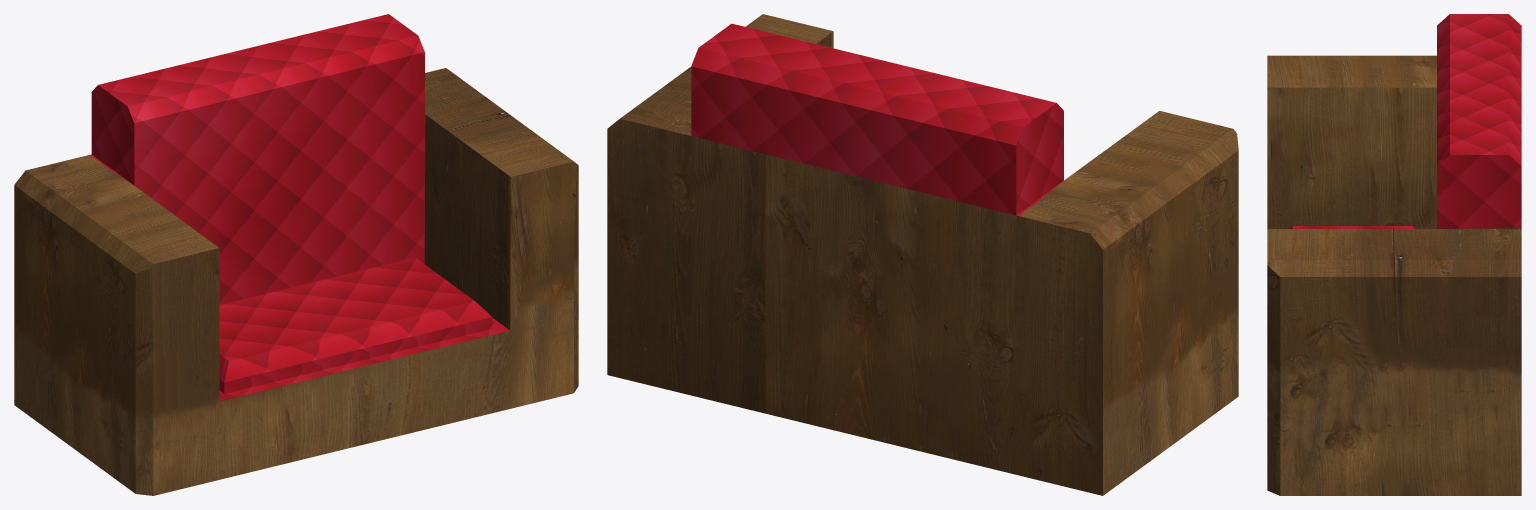
The model's file is sofa.FBX.
3 views of the same model, side by side, from view 1: azimuth 30°, elevation 25°; view 2: azimuth 150°, elevation 25°; view 3: azimuth 270°, elevation 25° (orthographic). The views are drawn at different scales.
Parts seen in each view (by area): view 1: Box001; view 2: Box001; view 3: Box001.
Part boxes in pixels (x1=…): Box001: x1=14, y1=14, x2=578, y2=495; Box001: x1=607, y1=14, x2=1238, y2=495; Box001: x1=1267, y1=14, x2=1521, y2=495.
Bounding box in the file's own units: 39.37 × 25.98 × 19.69.
1 material, 1 textured.
